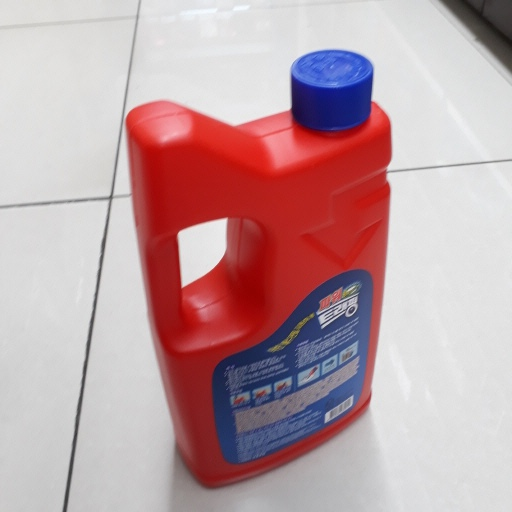Plastic_1: (125, 50, 392, 487)
